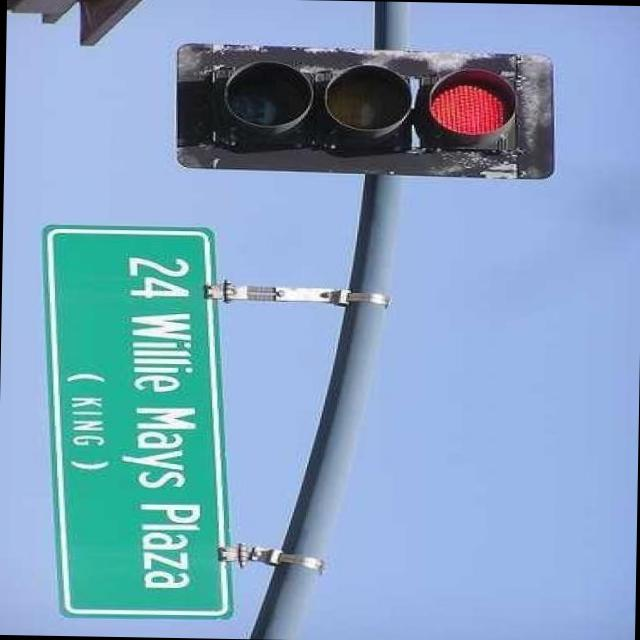red-lights: (415, 63, 531, 155)
